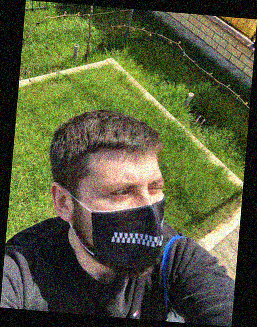with_mask: (85, 165, 166, 277)
